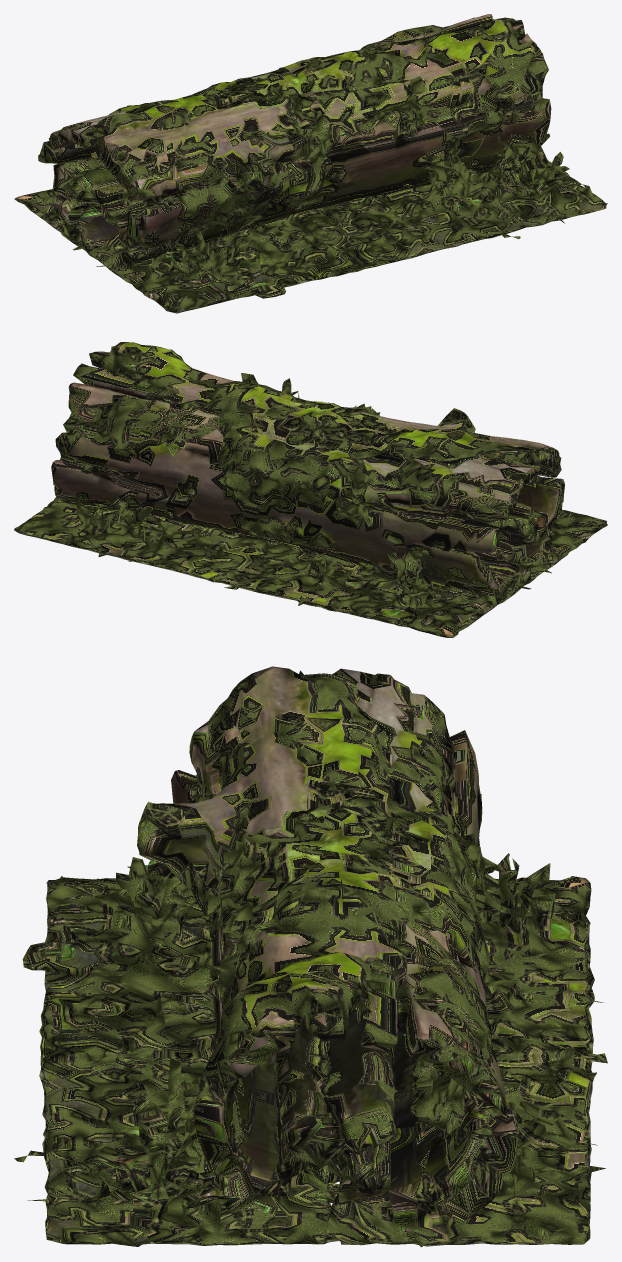
3 views of the same model, one above another, from view 1: azimuth 30°, elevation 25°; view 2: azimuth 150°, elevation 25°; view 3: azimuth 270°, elevation 25° (orthographic). The views are drawn at different scales.
Size of the model in its own units: 1.88 by 0.5411 by 1.24.
Materials: 1 (1 with a texture image).
